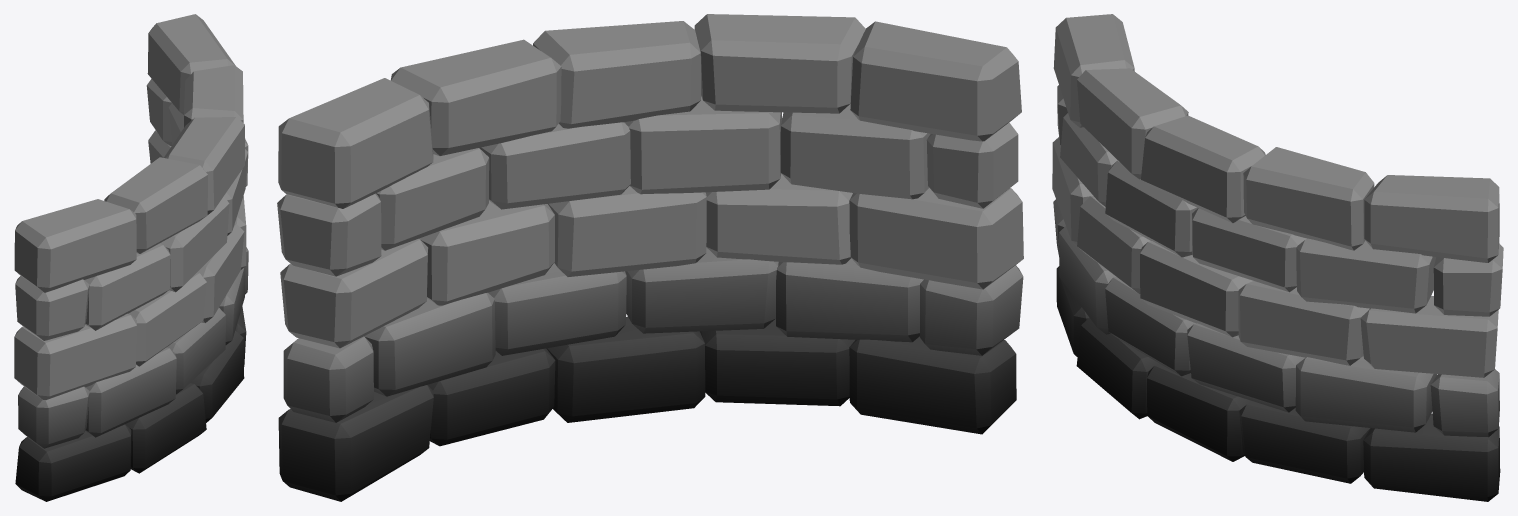
File: BrickWall2x1_01_T90_Solo.fbx
3 renders of one model, left to right at view 1: azimuth 30°, elevation 25°; view 2: azimuth 150°, elevation 25°; view 3: azimuth 270°, elevation 25°, orthographic. The views are drawn at different scales.
Parts seen in each view (by area): view 1: BrickWall2x1_01_T90_Solo; view 2: BrickWall2x1_01_T90_Solo; view 3: BrickWall2x1_01_T90_Solo.
Boxes of the visible parts, left/top/right/bottom form: BrickWall2x1_01_T90_Solo: left=14, top=14, right=248, bottom=501; BrickWall2x1_01_T90_Solo: left=277, top=14, right=1023, bottom=501; BrickWall2x1_01_T90_Solo: left=1052, top=14, right=1503, bottom=501.
Size of the model in its own units: 140 by 101 by 136.
